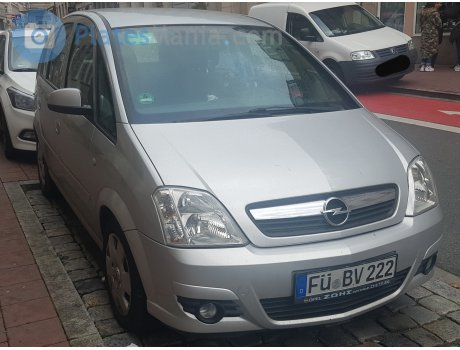License Plates: (309, 262, 396, 293), (286, 268, 307, 274)
